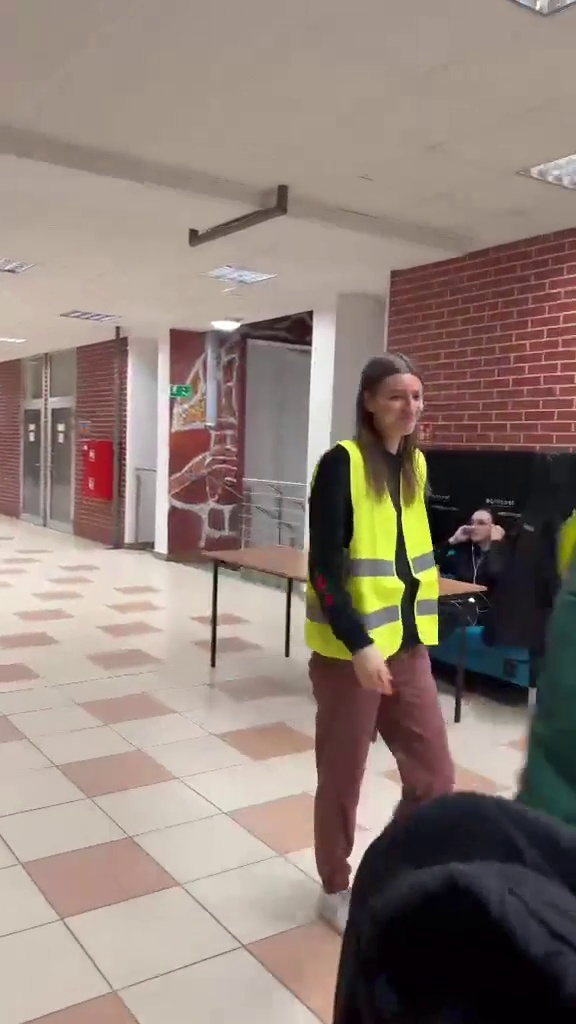no vest: (447, 507, 515, 642)
vest: (308, 347, 456, 906)
